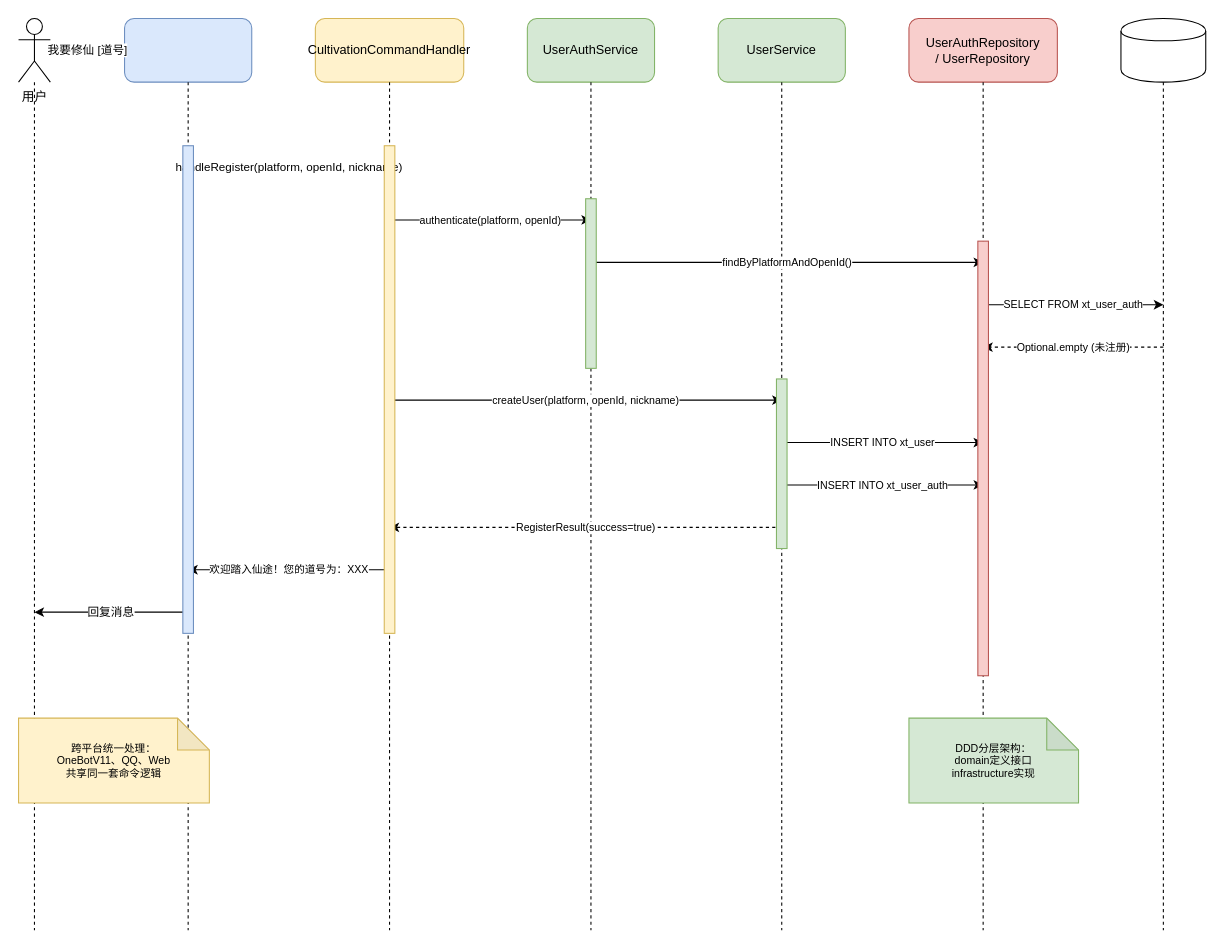
Image size: 1224x950. Some labels were removed from this diagram. Here are the shapes that lost their labels. From the top down, the box of each, then its label:
(123, 17, 252, 82): Platform Listener (OneBotV11/QQ/Web)
(1120, 17, 1206, 82): Database (xt_user_auth / xt_user)
